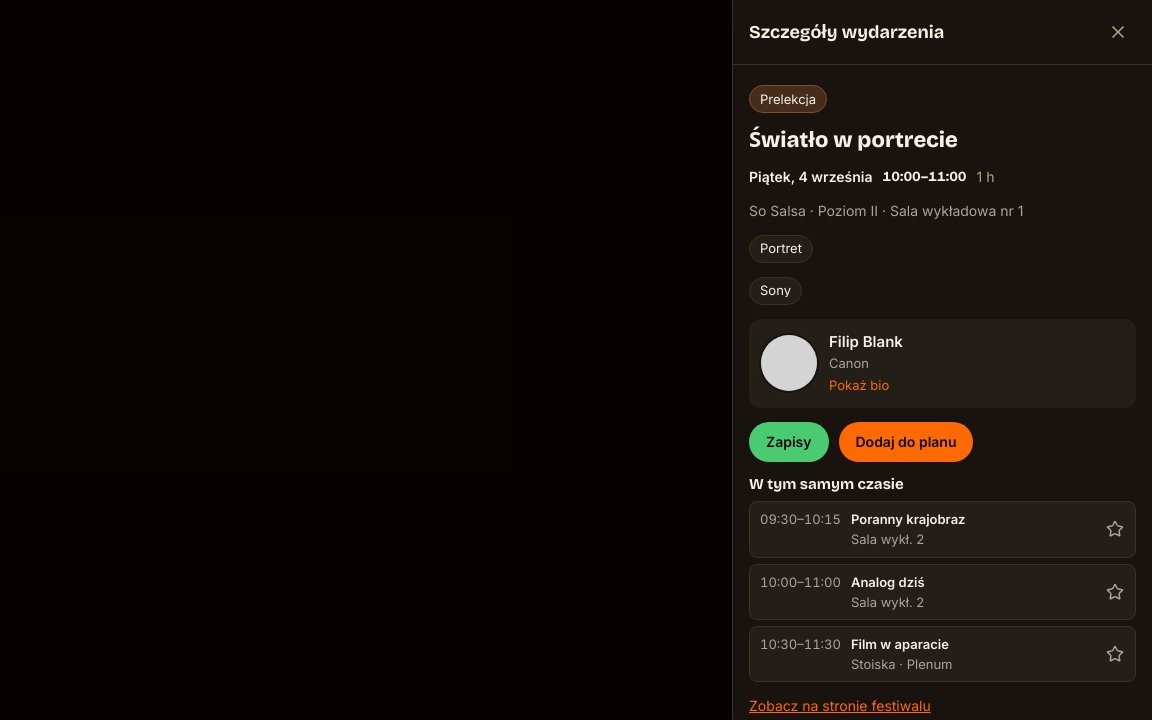
Scenario: DetailSheet › renders the speaker with name, brands and a bio disclosure
The width and height of the screenshot is (1152, 720).
Expected: the text "Filip Blank" is shown, [829,331,903,352]
Expected: the text "Canon" is shown, [829,355,869,371]
Step 1. Click the button "Pokaż bio" → (859, 385), box [829,374,889,396]
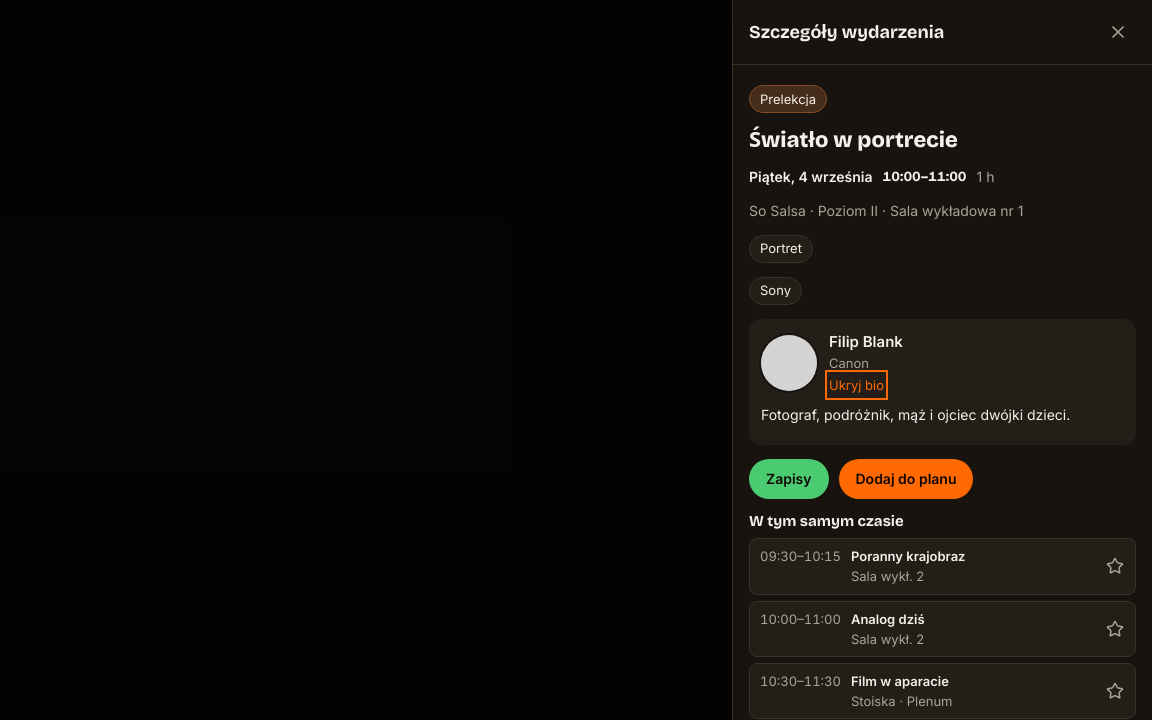
Expected: the text "Fotograf, podróżnik, mąż i ojciec dwójki dzieci." is shown, [761,404,1124,425]
Expected: the button "Ukryj bio" is expanded, [829,374,884,396]
